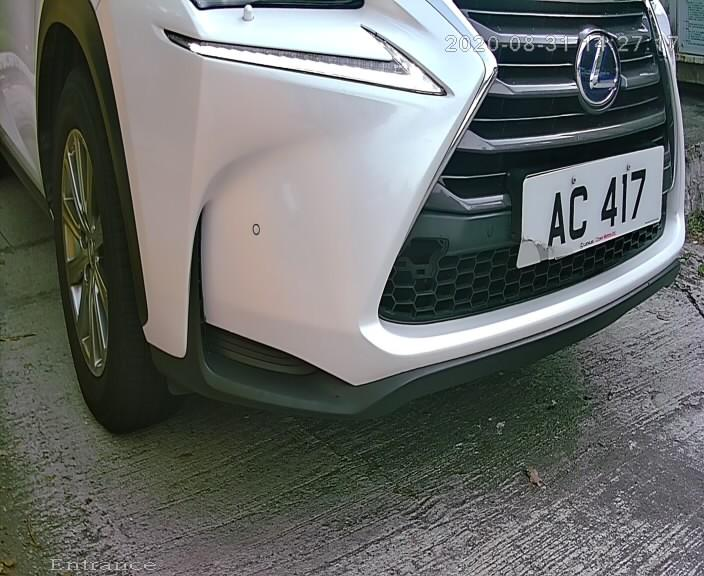Car: (51, 1, 704, 445)
License Plate: (519, 139, 660, 265)
